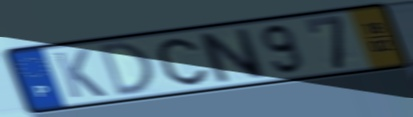7: (302, 12, 349, 72)
9: (257, 21, 307, 75)
C: (154, 36, 211, 87)
D: (96, 39, 158, 100)
K: (50, 47, 109, 100)
N: (194, 26, 271, 85)
